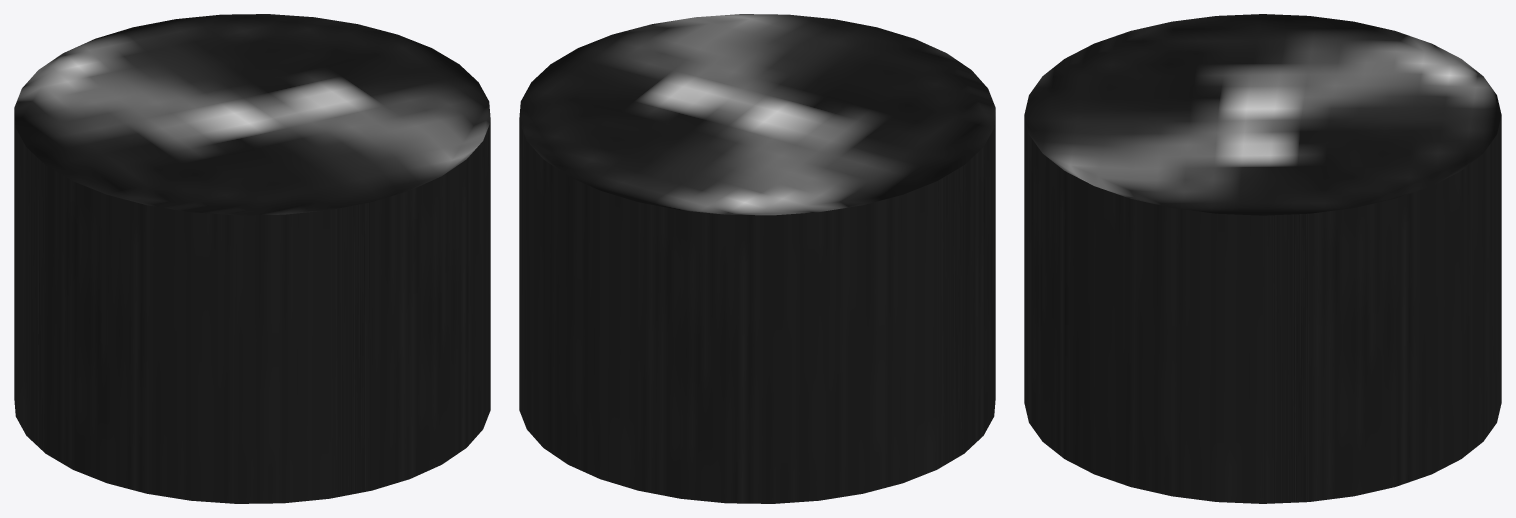
Rendered from skip-texture.glb.
The picture shows the model from 3 angles, left to right: view 1: azimuth 30°, elevation 25°; view 2: azimuth 150°, elevation 25°; view 3: azimuth 270°, elevation 25°; orthographic projection.
Parts seen in each view (by area): view 1: Cylinder; view 2: Cylinder; view 3: Cylinder.
Boxes of the visible parts, <box> form: Cylinder: <box>14,14,490,503</box>; Cylinder: <box>519,14,995,503</box>; Cylinder: <box>1024,14,1501,503</box>.
Bounding box in the file's own units: 0.03 × 0.02 × 0.03.
Materials: 1 (1 with a texture image).
